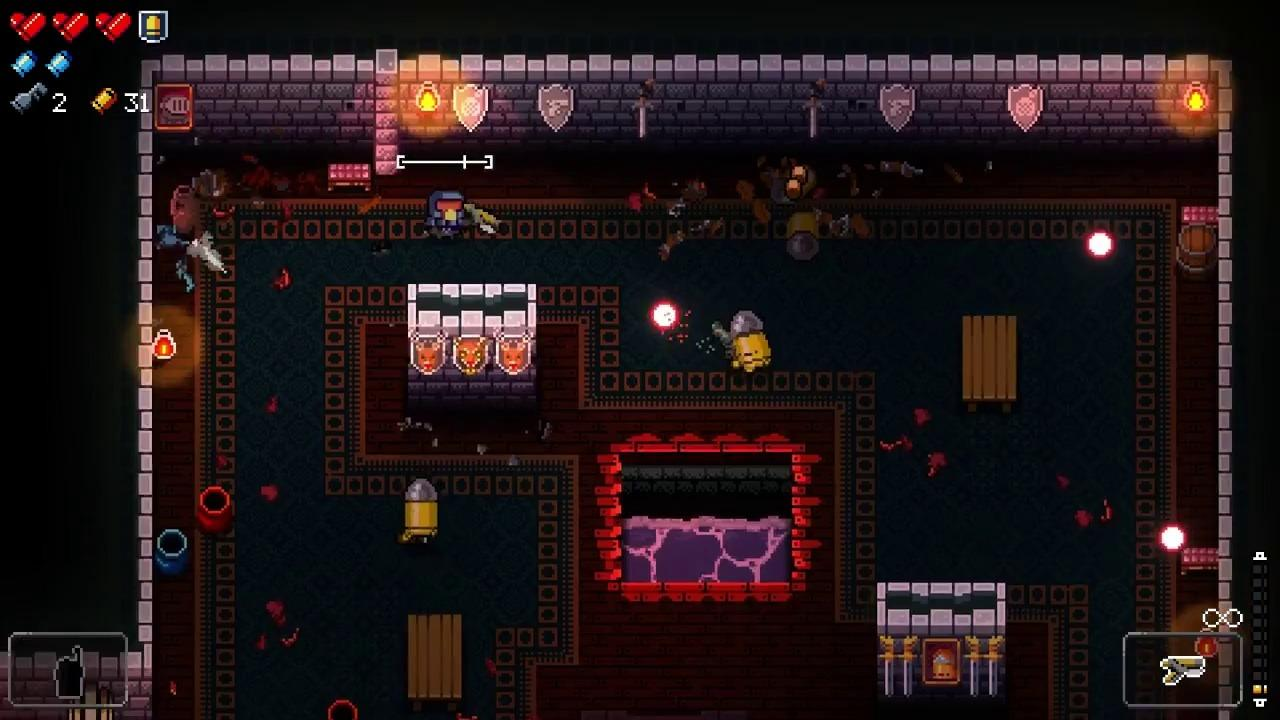bullet: (650, 298, 679, 329), (1085, 229, 1114, 260), (1159, 524, 1187, 552)
bullet_kin: (729, 310, 773, 371), (403, 479, 438, 537)
dead_bullet_kin: (788, 212, 822, 262)
player: (429, 190, 467, 238)
table: (407, 614, 462, 711), (963, 315, 1017, 413)
water_pit: (594, 434, 823, 603)
